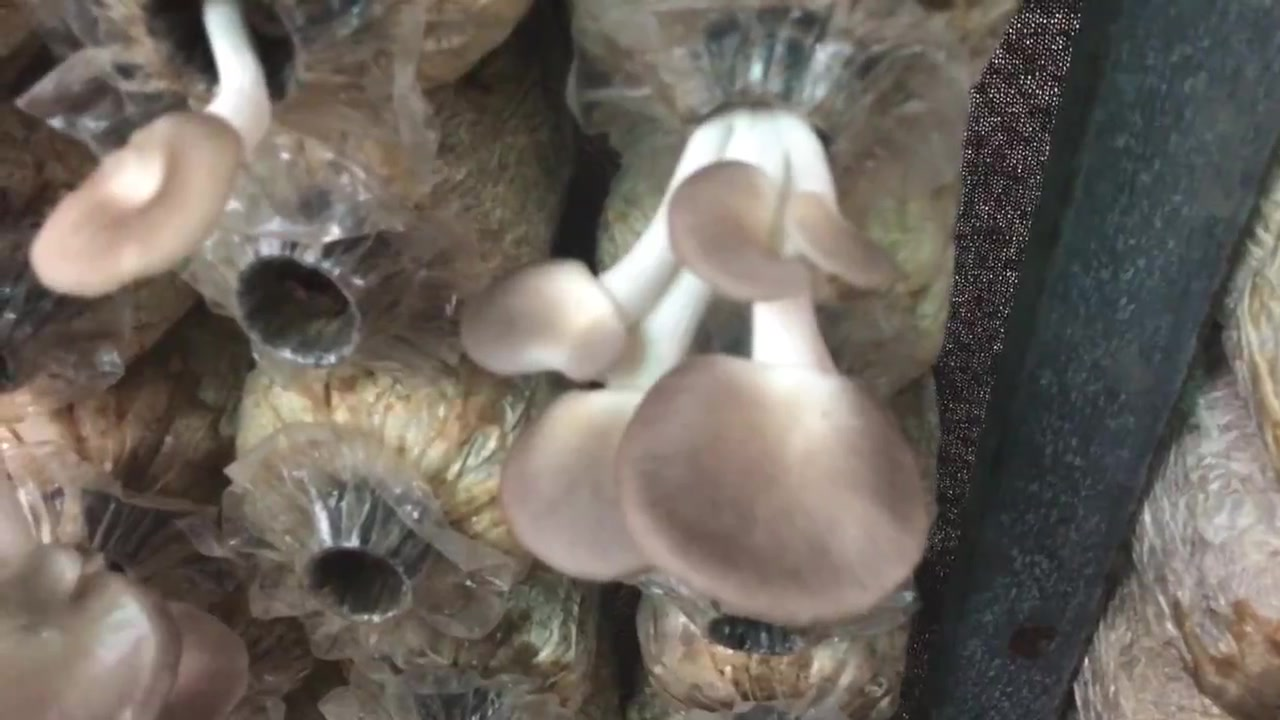nam: (466, 42, 930, 618), (35, 1, 303, 292)
